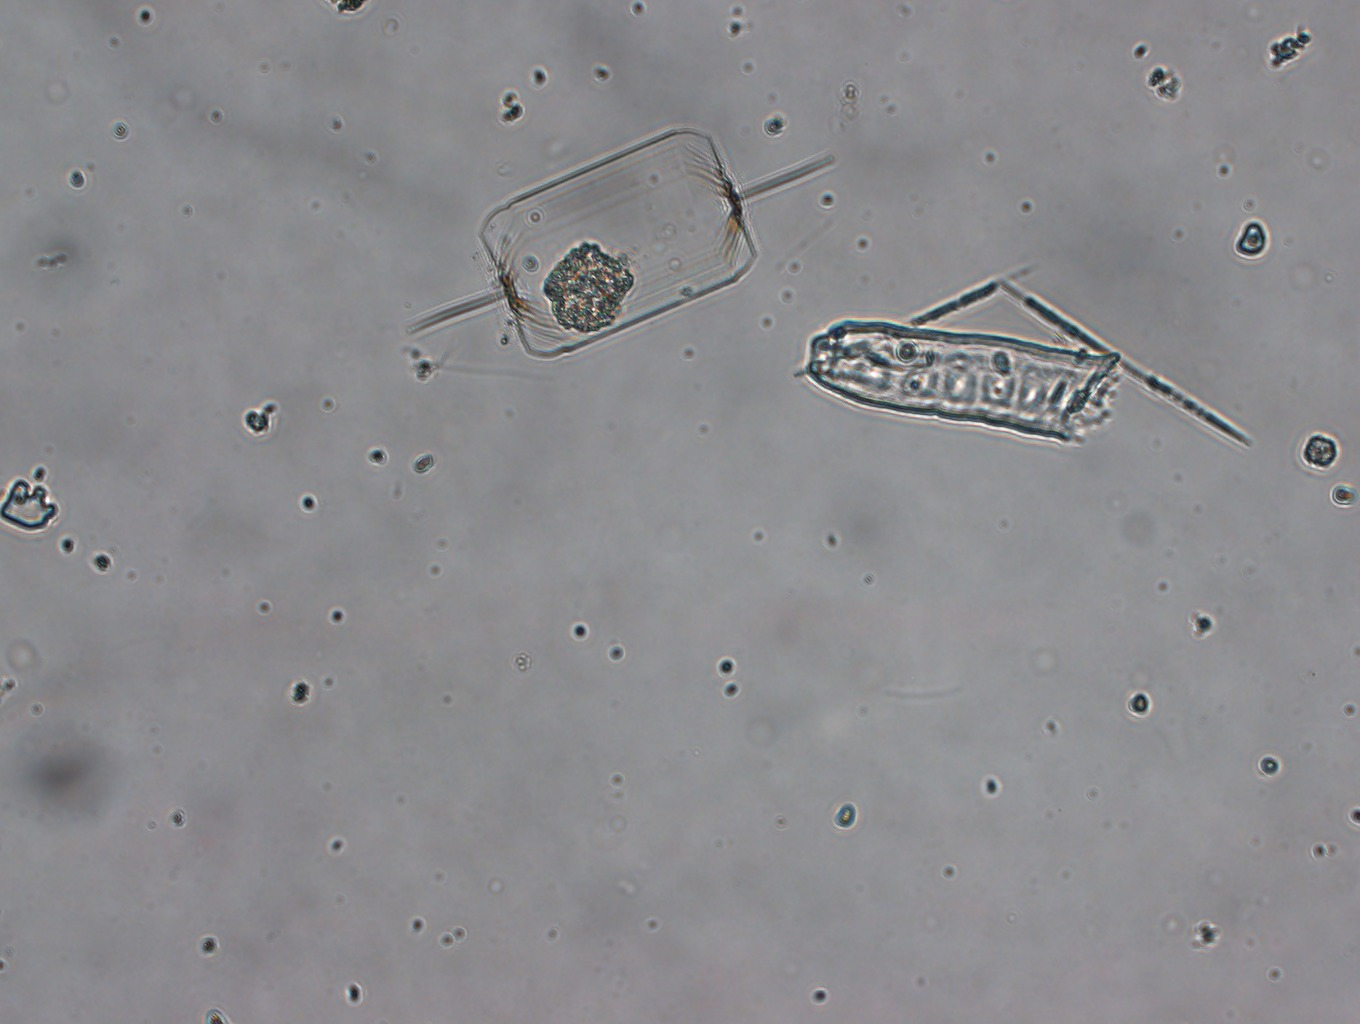ditylum: (413, 122, 836, 367)
